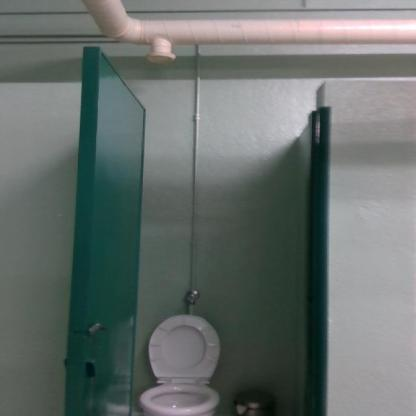door: (57, 43, 339, 415)
